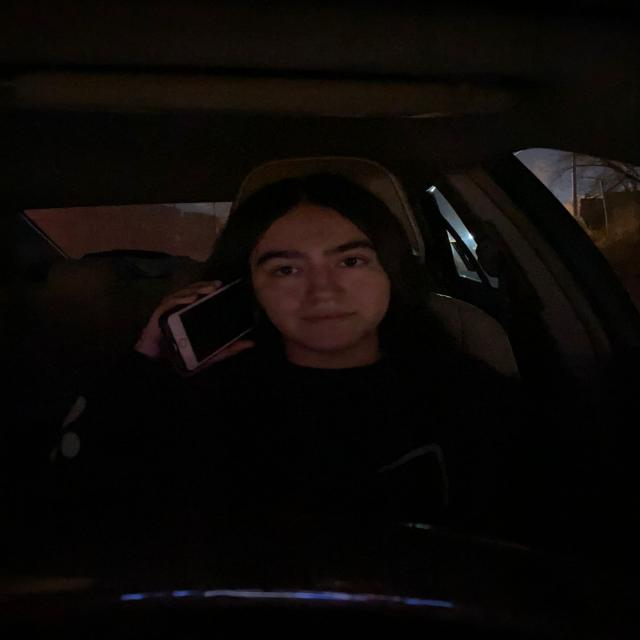mobile: (156, 273, 265, 371)
person: (228, 172, 418, 369)
